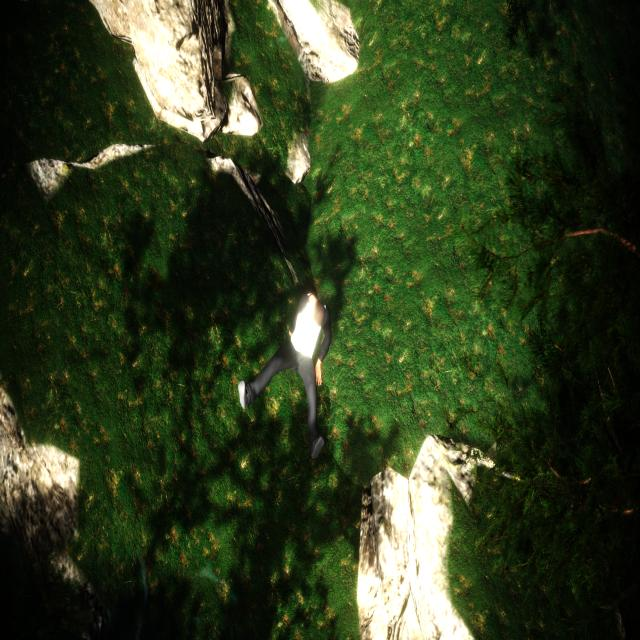Human: (236, 277, 336, 458)
